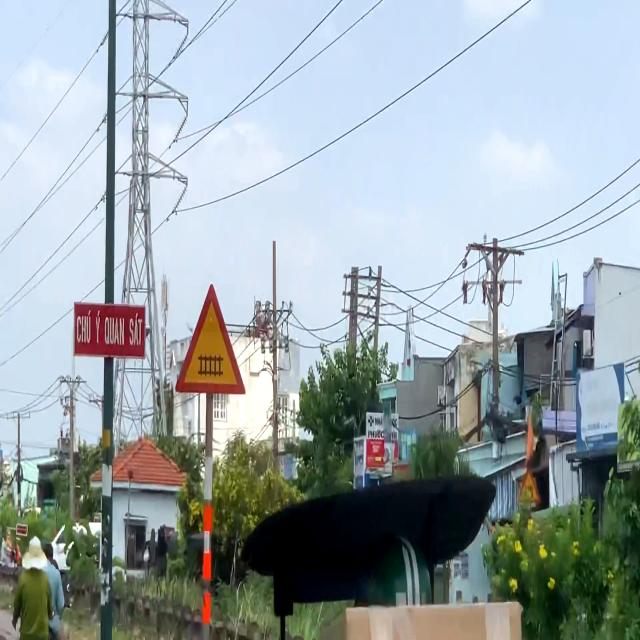W.210: (175, 283, 246, 396)
